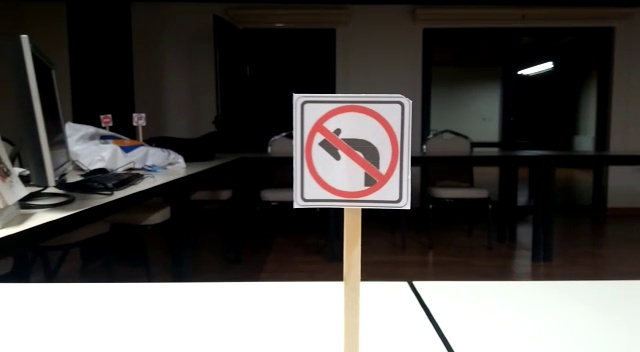sola_donulmez: (301, 102, 406, 205)
